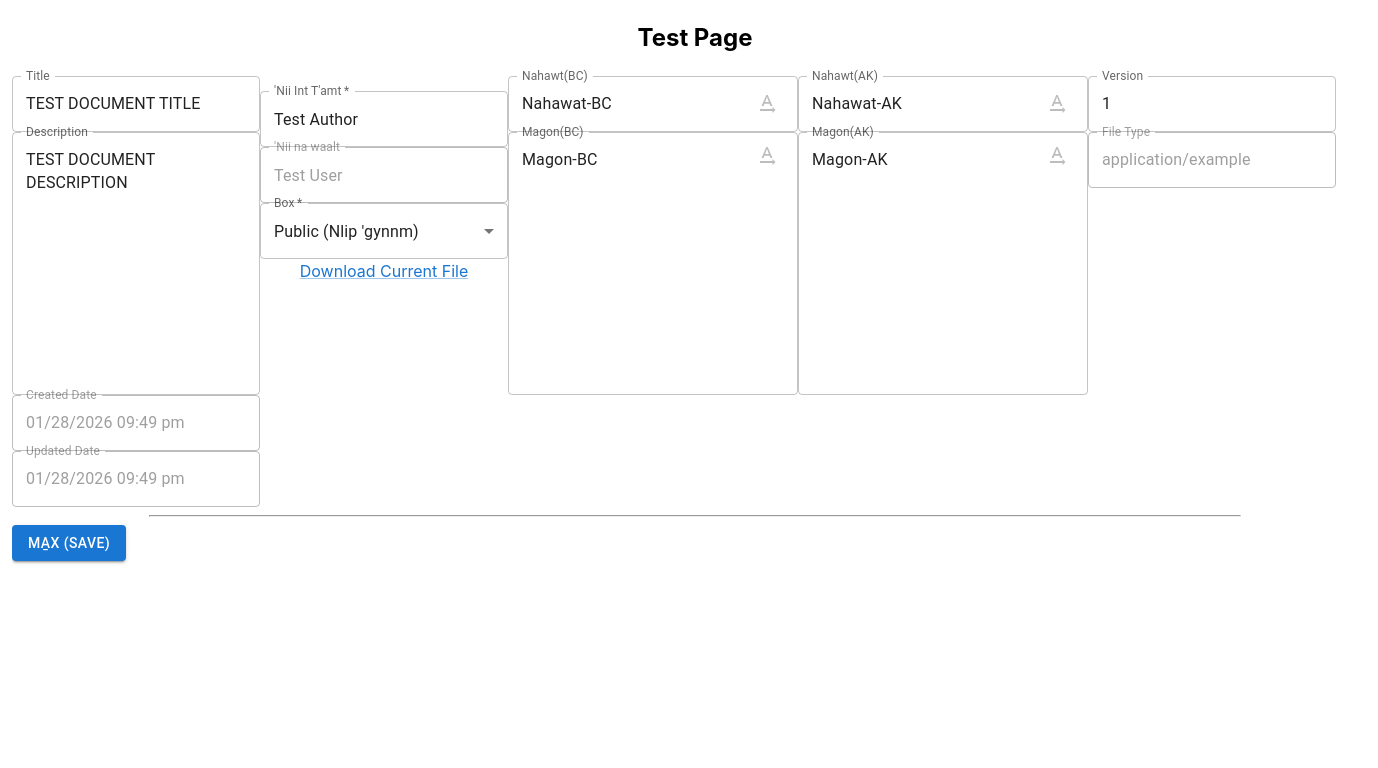
it: DocumentDetails Integration Tests › Box selector › Rendering › shows personal box in selector when boxList contains it
Click the dropdown labelled "Public (Nlip 'gynnm)" at (346, 231), box [274,222,419,241]
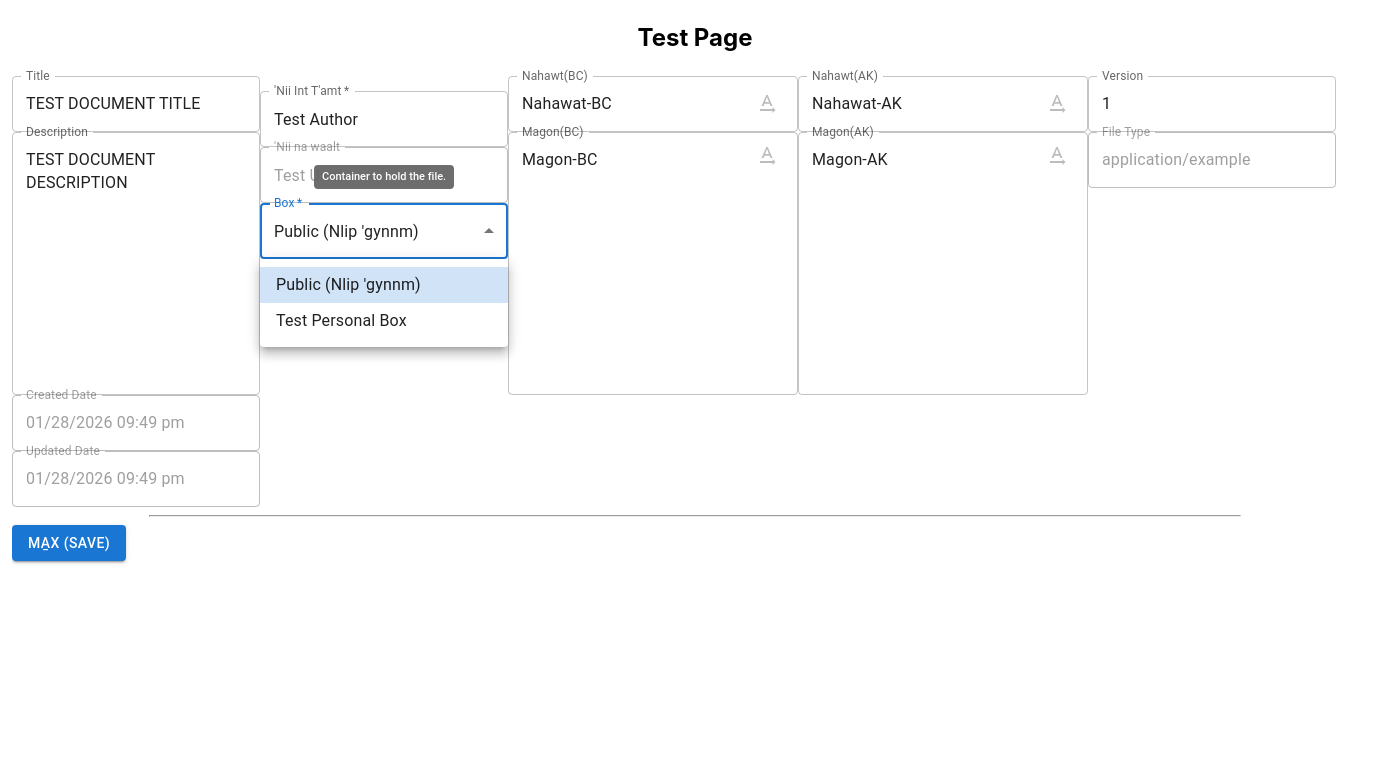
Expected: the option "Test Personal Box" is shown, [276,311,407,330]
